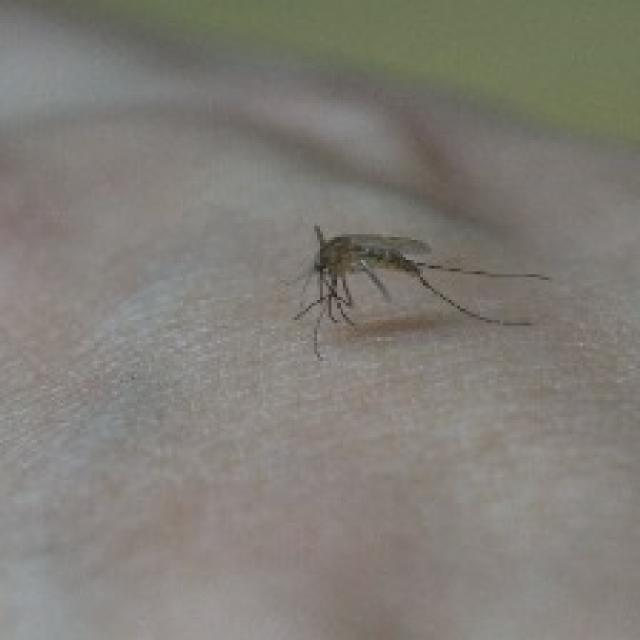culex: (286, 220, 548, 360)
